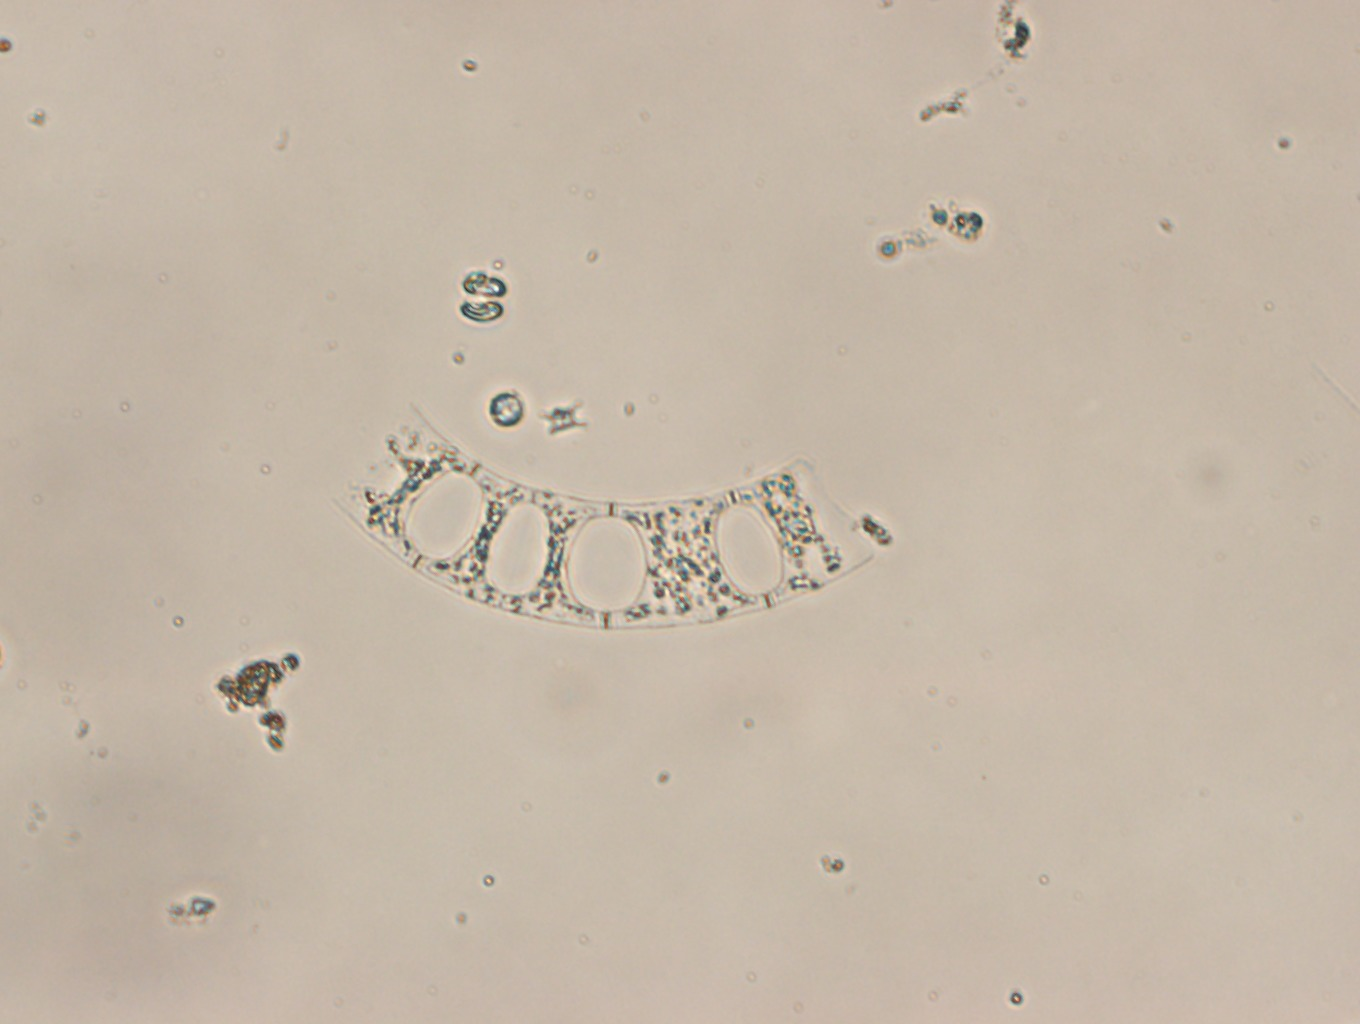eucampia: (329, 395, 871, 630)
